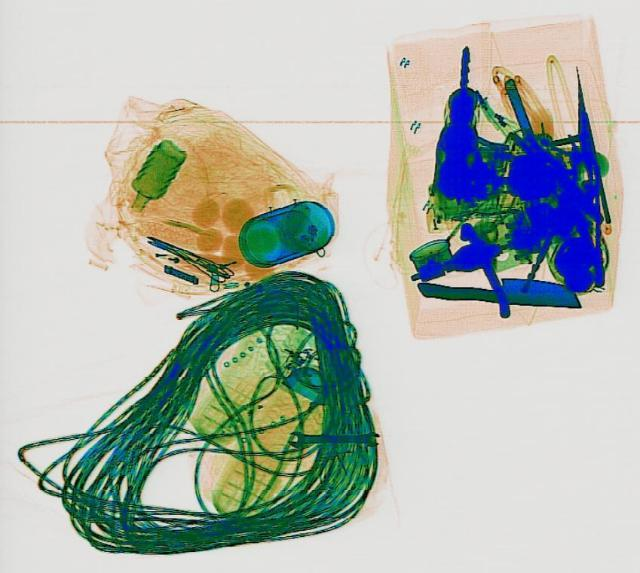Wrench: (288, 428, 379, 446)
